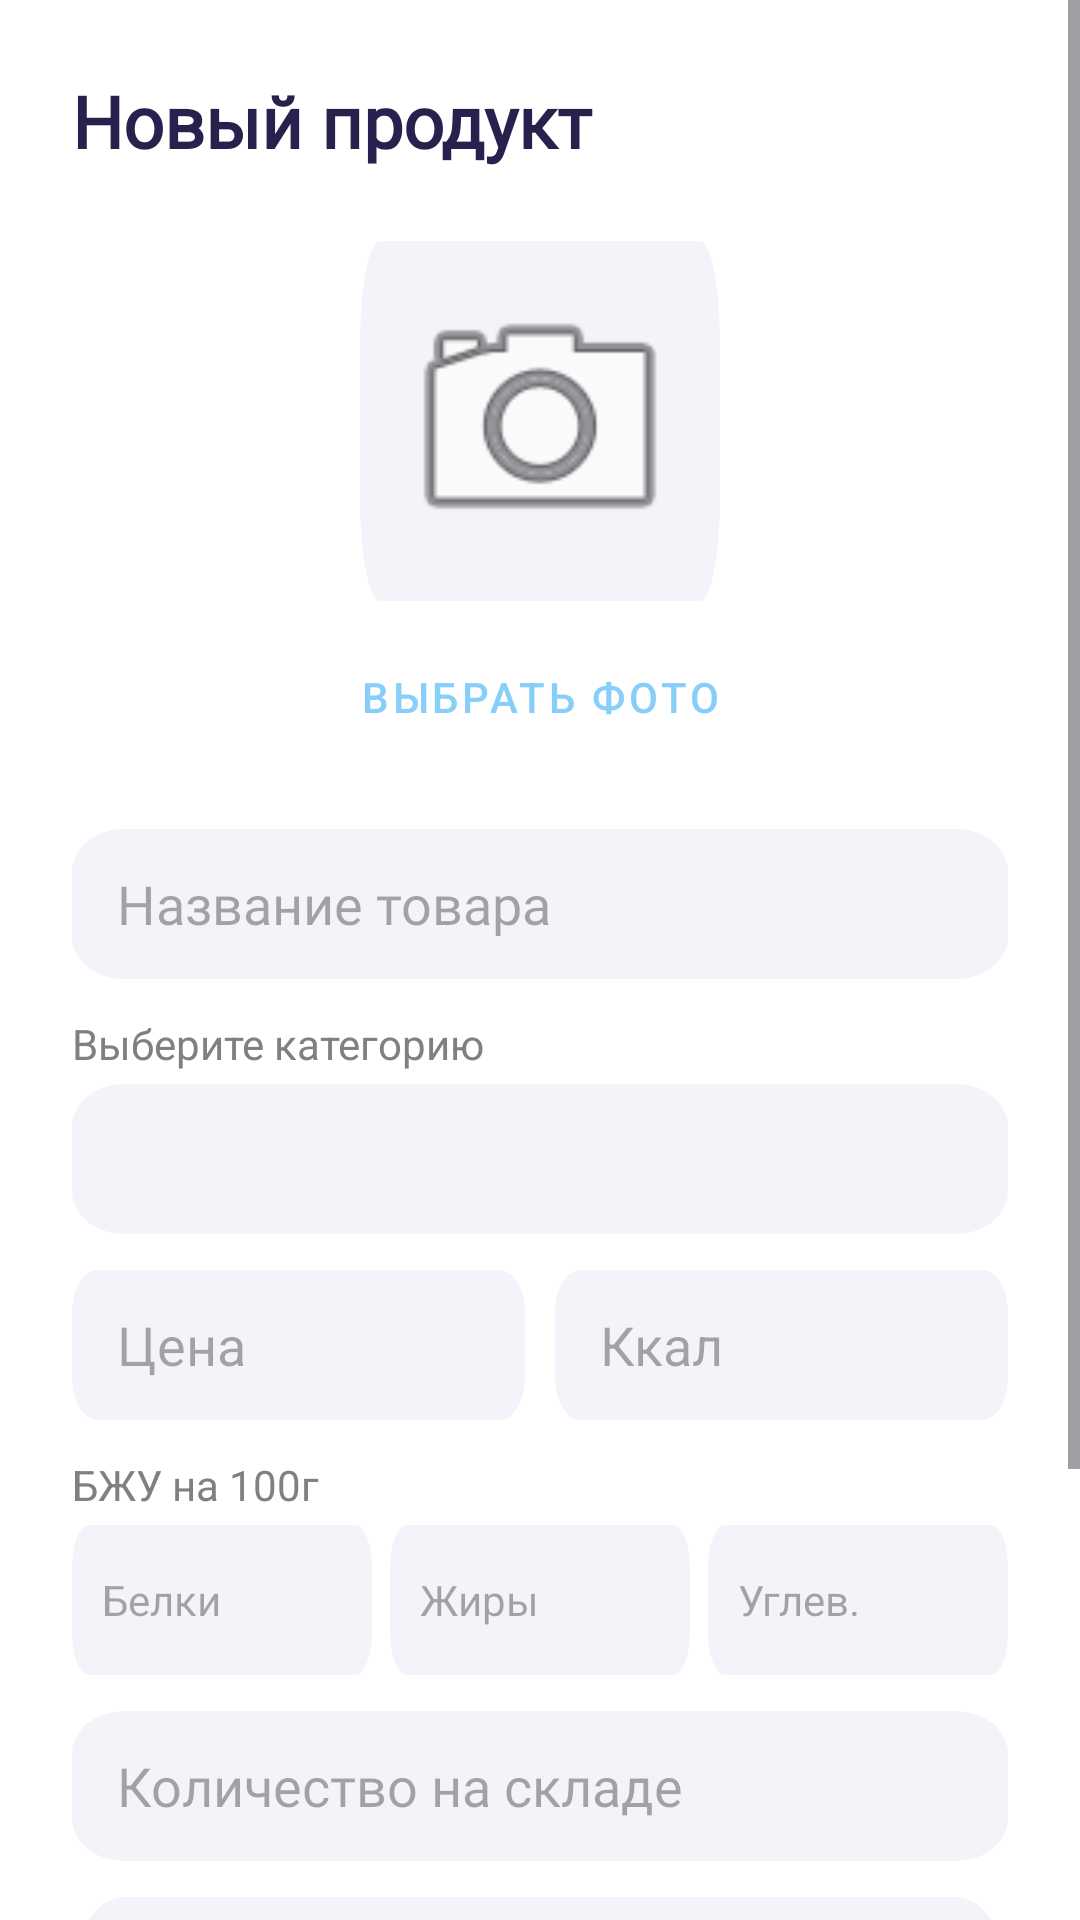

Icons on this 1080px x 1920px Android screen, each with its box as bbox=(x1, y1, x2, y2):
camera: bbox=(360, 241, 720, 601)
